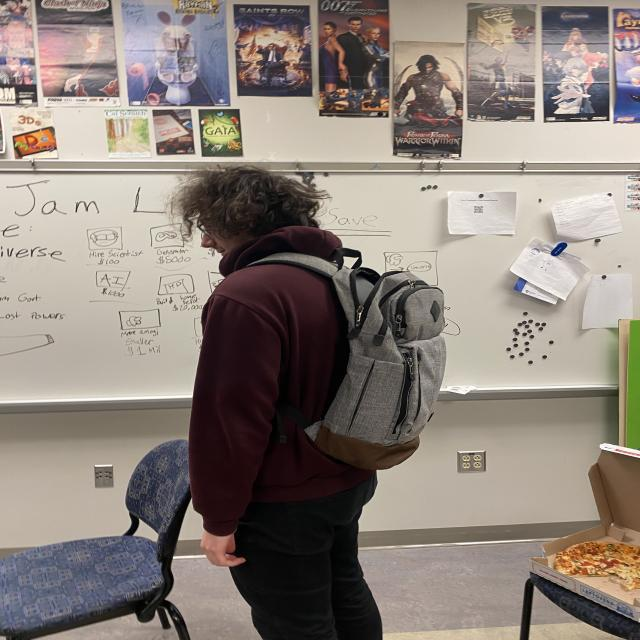Backpacks: (328, 261, 450, 474)
